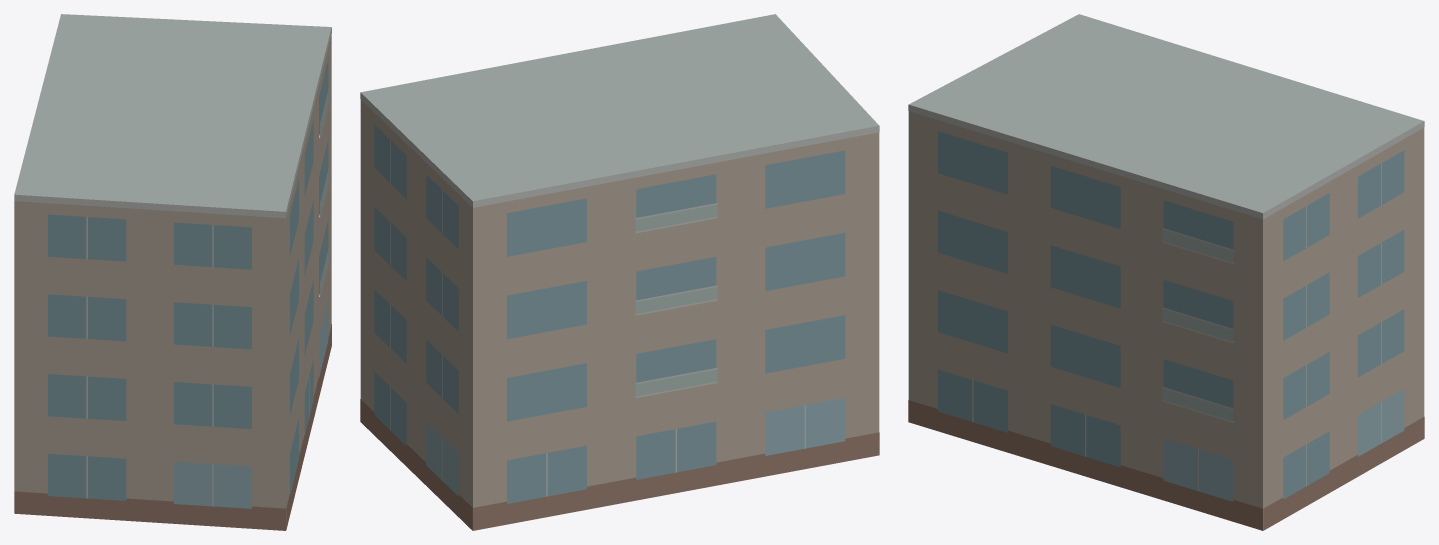
The model's file is survey-upis-32819873.glb.
3 renders of one model, left to right at view 1: azimuth 30°, elevation 25°; view 2: azimuth 150°, elevation 25°; view 3: azimuth 270°, elevation 25°, orthographic. The views are drawn at different scales.
Visible parts, largest first — view 1: survey-upis-32819873.tmp; view 2: survey-upis-32819873.tmp; view 3: survey-upis-32819873.tmp.
Part boxes in pixels (x1=…): survey-upis-32819873.tmp: x1=14, y1=14, x2=331, y2=530; survey-upis-32819873.tmp: x1=360, y1=14, x2=879, y2=530; survey-upis-32819873.tmp: x1=908, y1=14, x2=1424, y2=530.
Size of the model in its own units: 16.42 by 12.2 by 17.96.
